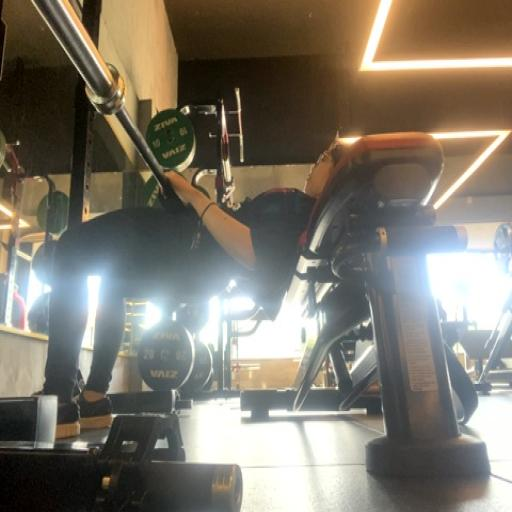exercise: (30, 136, 358, 434)
